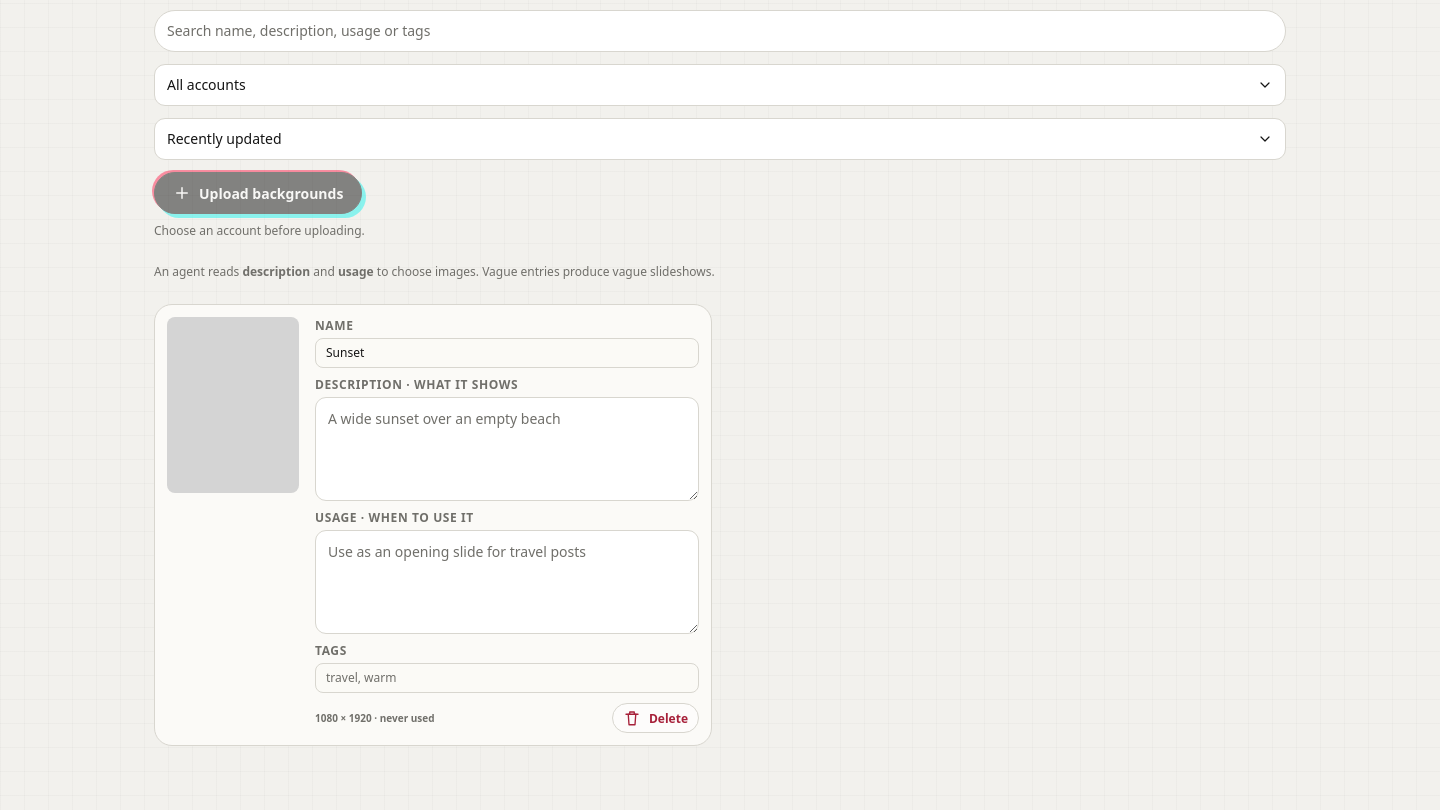
Scenario: shows the tags the server kept, not the ones that were typed
The width and height of the screenshot is (1440, 810).
(page scrolled)
Step 1. Type "Travel,,  WARM , travel " into the field labelled "Tags" → (507, 678), box [315,663,699,693]
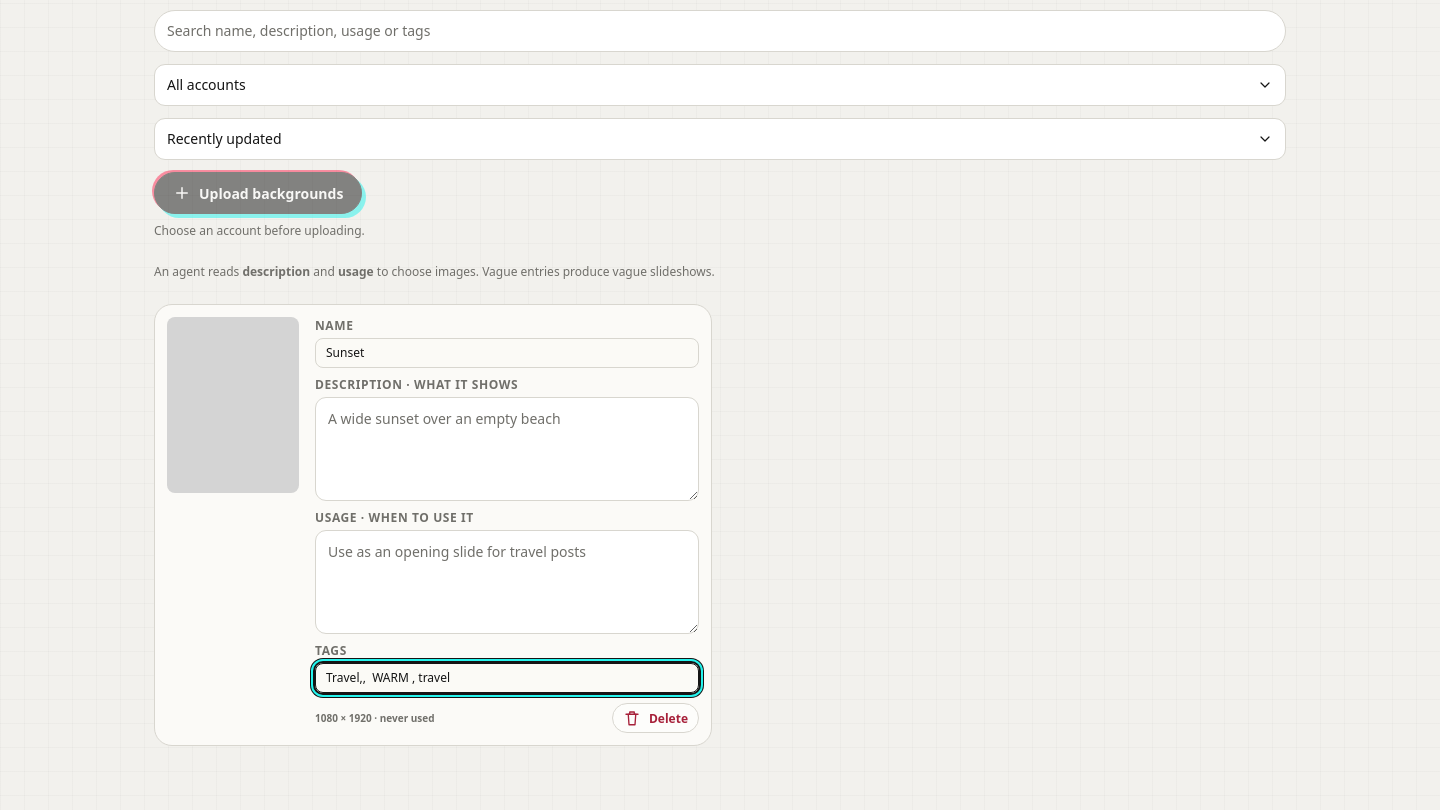
Step 2. Click the field labelled "Name" → (507, 353), box [315,338,699,368]
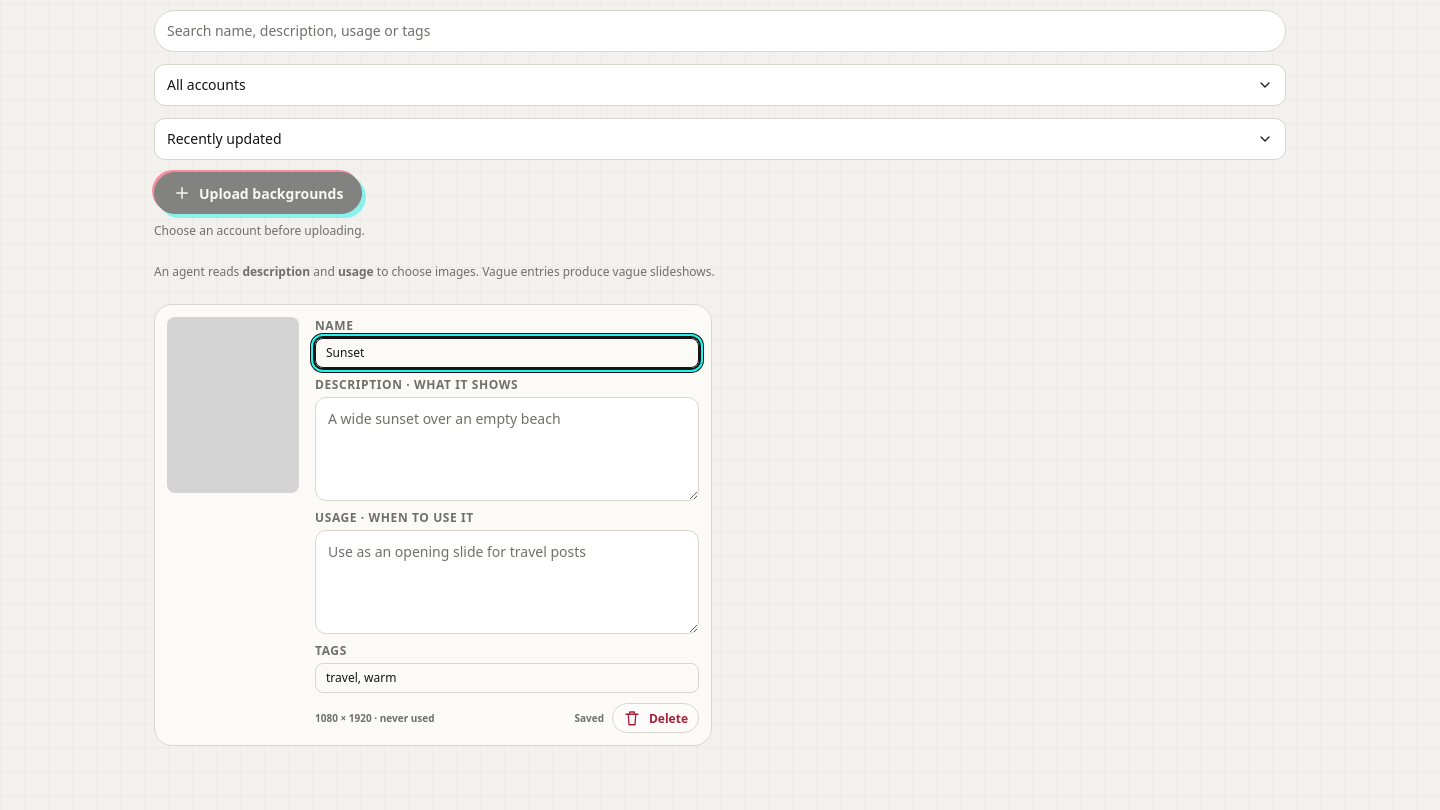
Result: the text "Saved" is shown at [574,711,604,725]
Result: the field labelled "Tags" holds "travel, warm" at [315,663,699,693]
